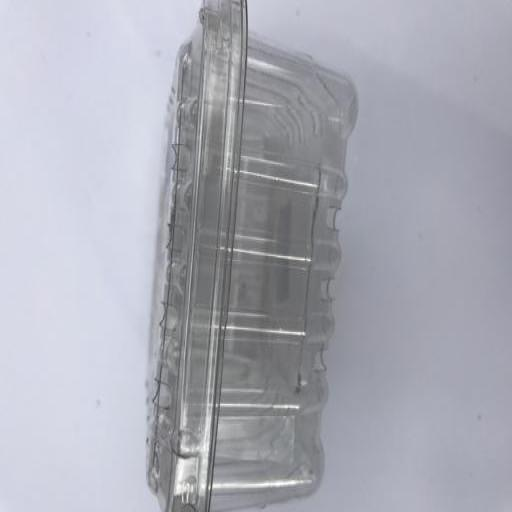waste: (138, 0, 360, 512)
